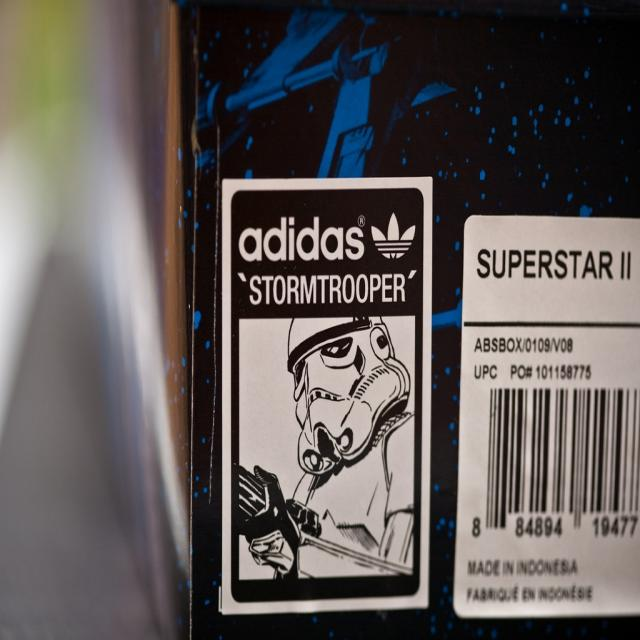adidas: (368, 208, 418, 267)
